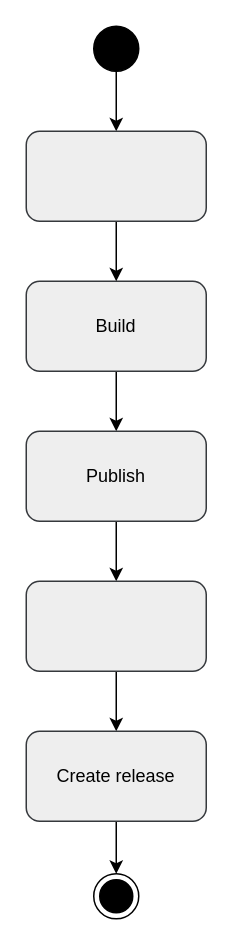
Image size: 233x945. Some labels were removed from this diagram. The shapes that lost their labels are listed below. From the top down, each one's centre as x and y in pixels, then its label:
At [115,175]: "Restore".
At [115,625]: "Zip Chirp.Web.dll".
